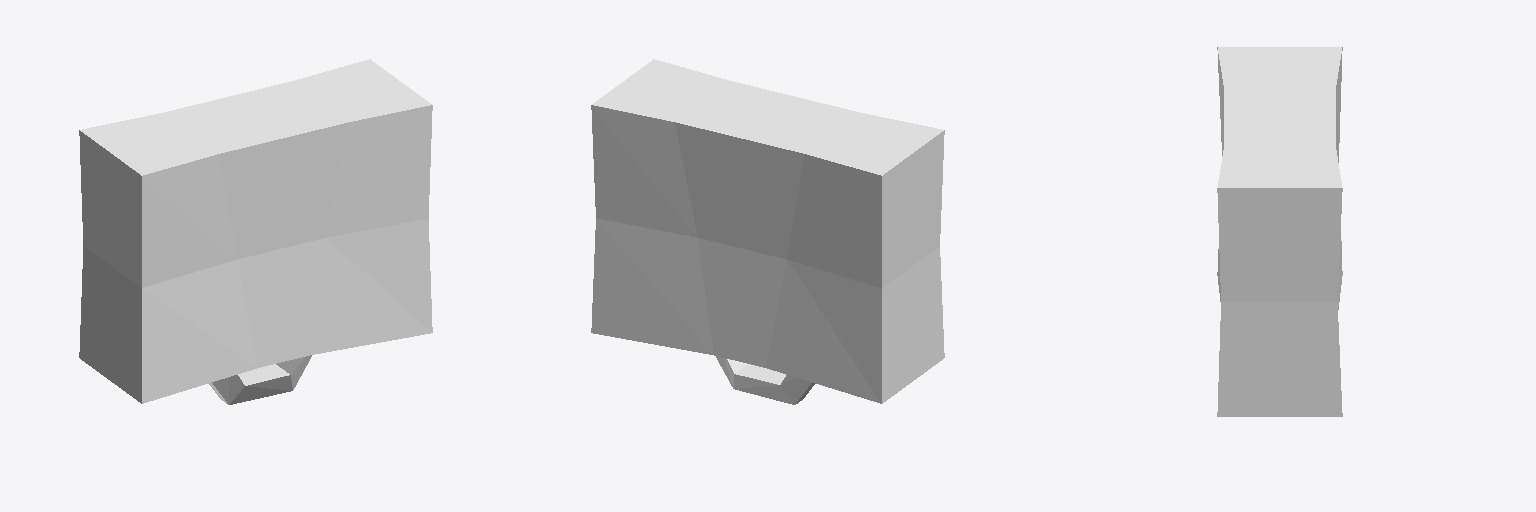
File: LUGGAGE.obj
3 renders of one model, left to right at view 1: azimuth 30°, elevation 25°; view 2: azimuth 150°, elevation 25°; view 3: azimuth 270°, elevation 25°, orthographic.
Parts seen in each view (by area): view 1: LUGGAGE_node00_face00; view 2: LUGGAGE_node00_face00; view 3: LUGGAGE_node00_face00.
Boxes of the visible parts, <box> form: LUGGAGE_node00_face00: <box>79,59,432,404</box>; LUGGAGE_node00_face00: <box>591,59,944,404</box>; LUGGAGE_node00_face00: <box>1217,47,1342,416</box>.
Bounding box in the file's own units: 268 × 244 × 100.